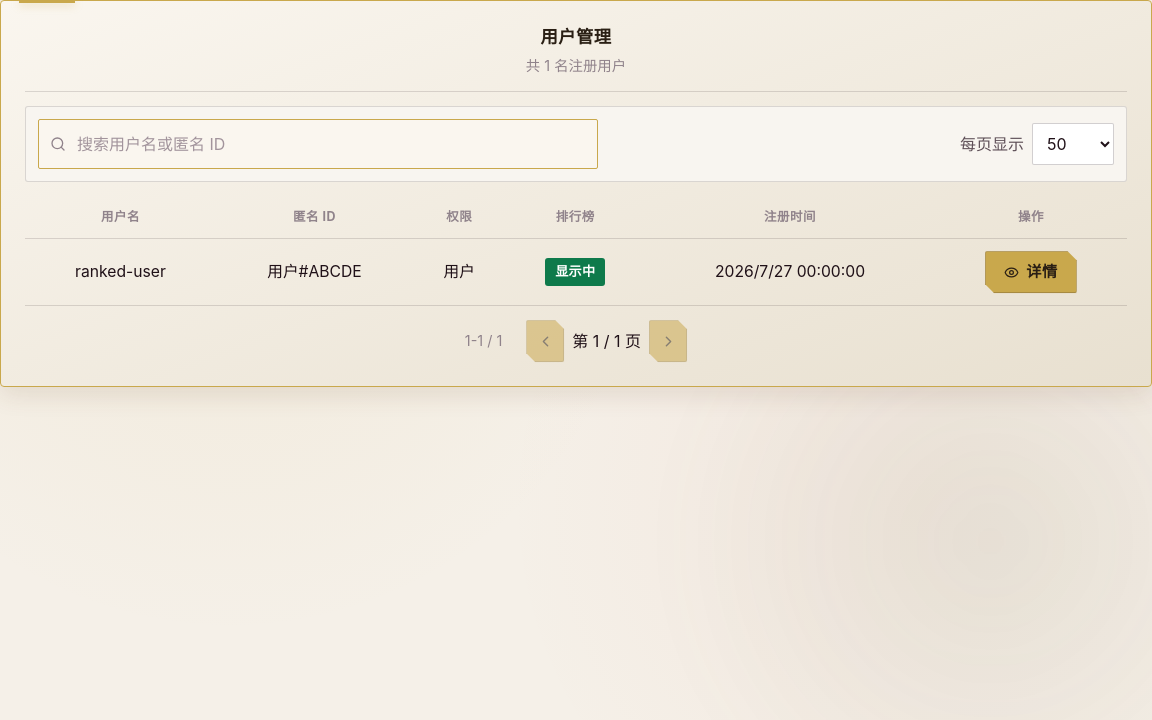
Scenario: AdminUsers › opens one details action with four lazy-loaded tabs
Click the button "详情".
click(1031, 272)  # box [985,251,1077,293]
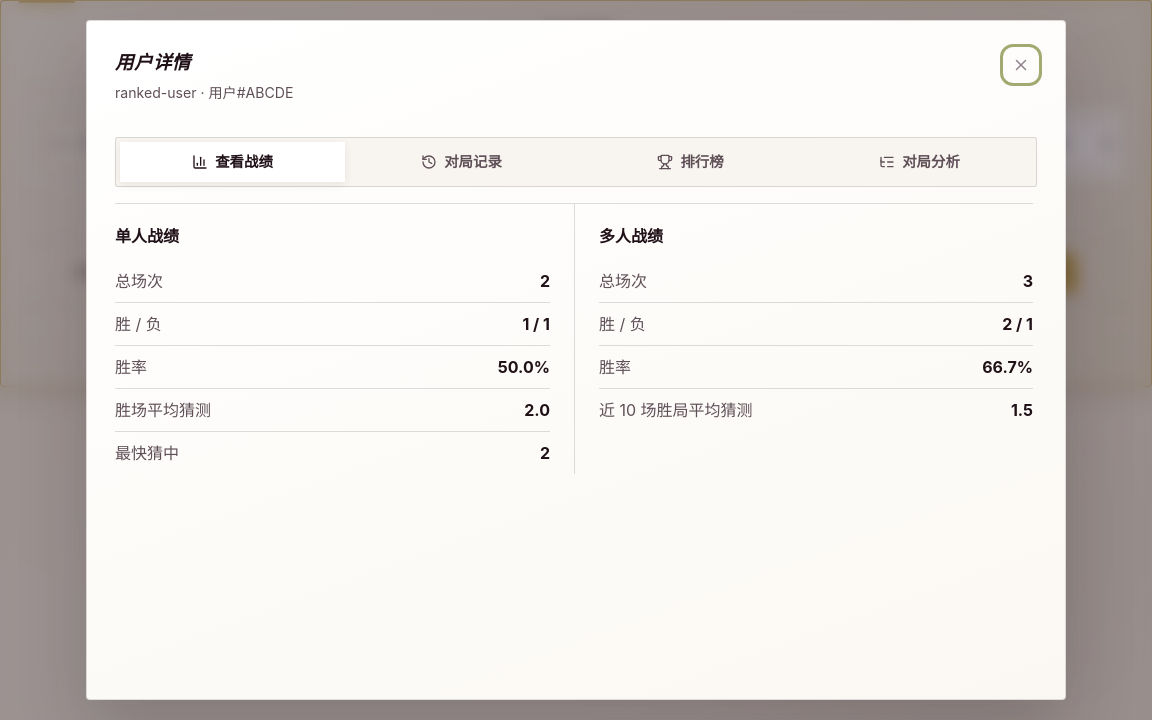
Expected: the dialog is shown
Expected: the tab "查看战绩" is shown, [120,142,345,182]
Expected: the tab "对局记录" is shown, [349,142,574,182]
Click the tab "排行榜".
click(690, 162)  # box [578,142,803,182]
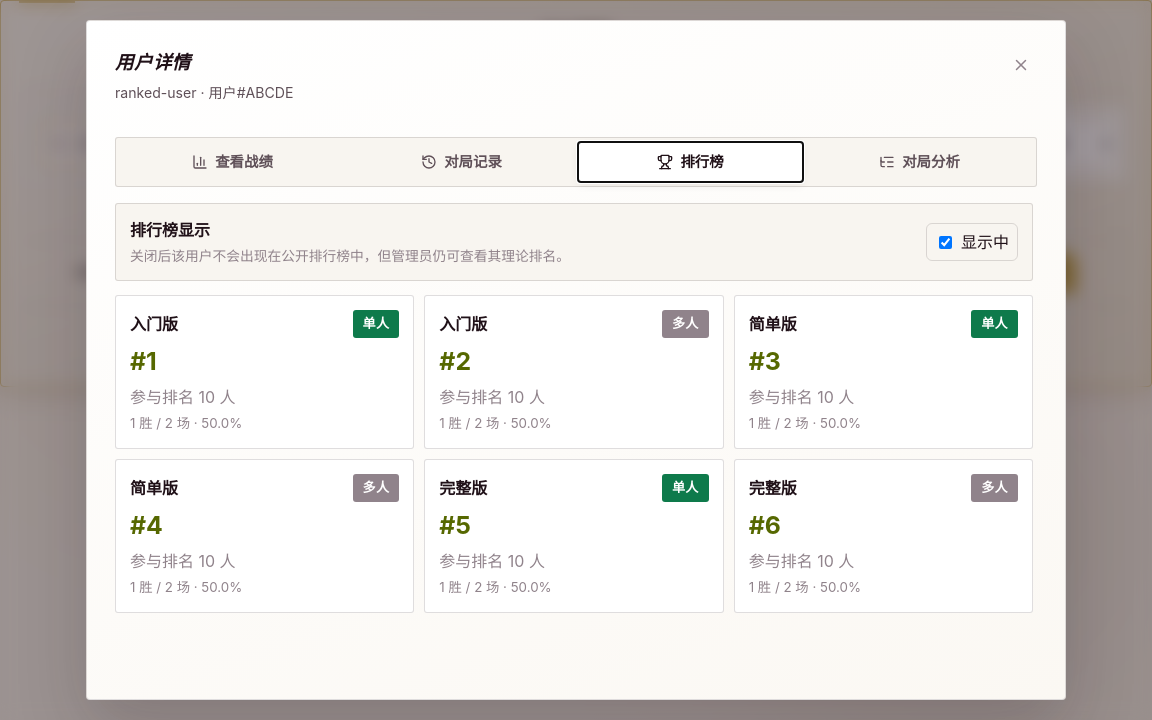
Expected: the text "#1" is shown, [130,346,157,376]
Click the tab "对局分析".
click(920, 162)  # box [807,142,1032,182]
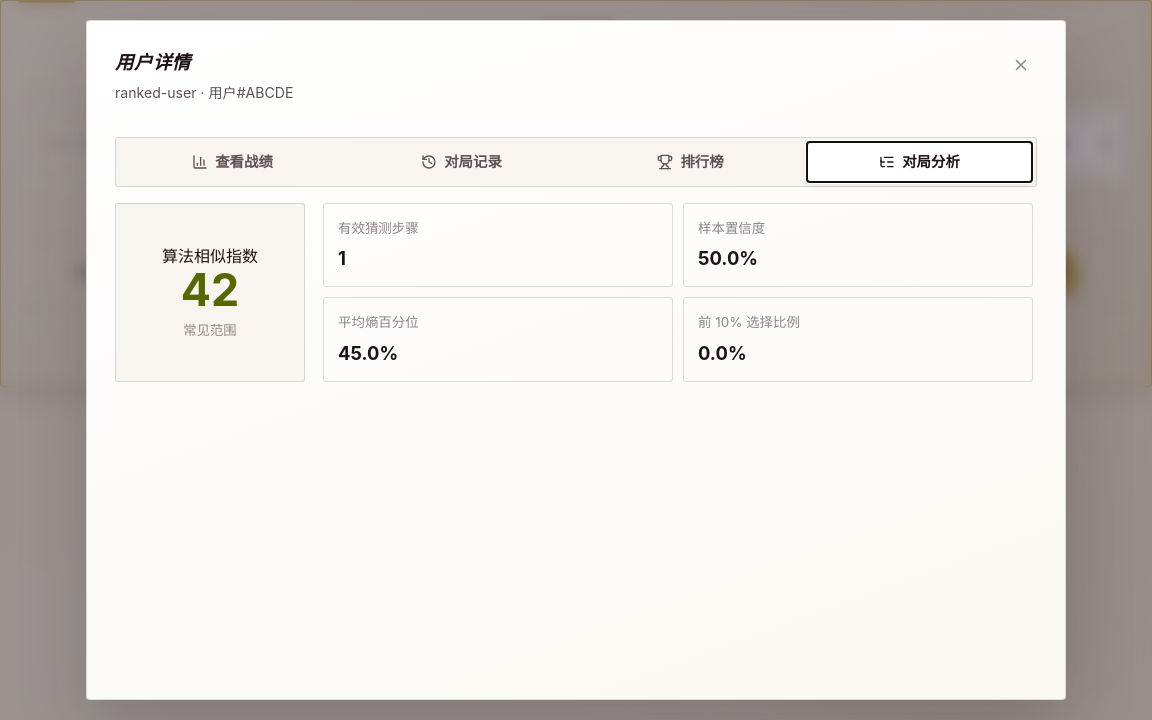
Expected: the text "算法相似指数" is shown, [162,244,258,268]
